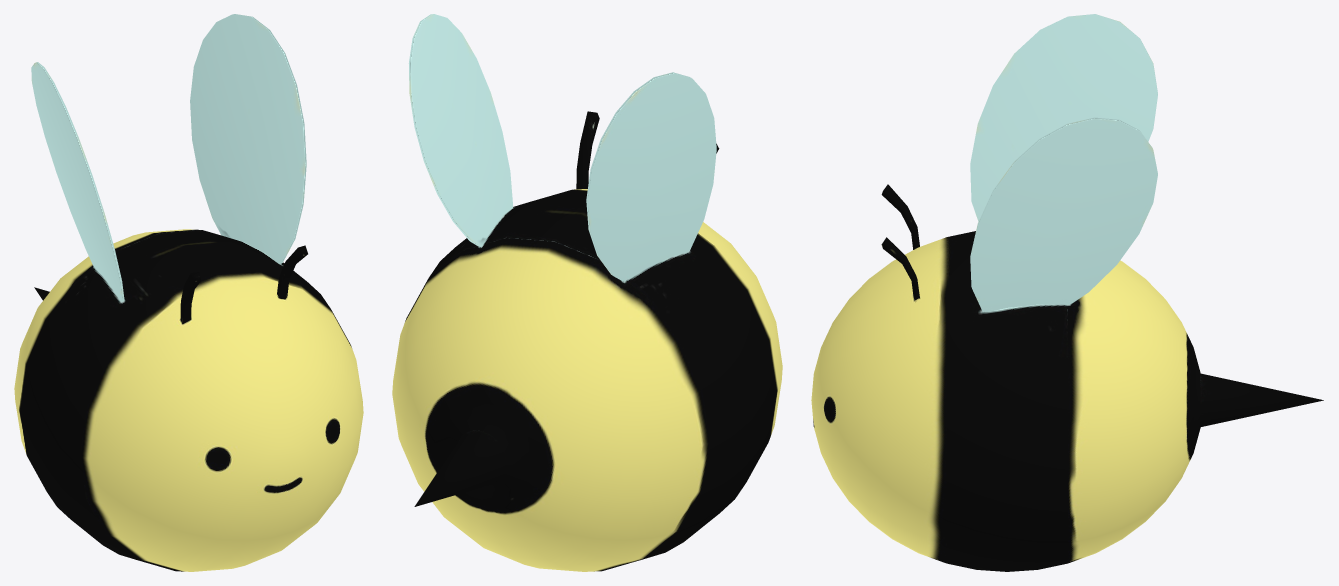
The model's file is mr._bee.glb.
3 views of the same model, side by side, from view 1: azimuth 30°, elevation 25°; view 2: azimuth 150°, elevation 25°; view 3: azimuth 270°, elevation 25° (orthographic). The views are drawn at different scales.
Parts seen in each view (by area): view 1: pSphere1, pCylinder2, pCylinder1, polySurface2, polySurface1; view 2: pSphere1, pCylinder1, pCylinder2, polySurface2; view 3: pSphere1, pCylinder2, pCylinder1, polySurface1.
Part boxes in pixels (bbox=[...]): pSphere1: bbox=[14, 229, 363, 571]; pCylinder2: bbox=[190, 14, 306, 263]; pCylinder1: bbox=[31, 62, 124, 302]; polySurface2: bbox=[277, 245, 307, 299]; polySurface1: bbox=[180, 271, 201, 324]; pSphere1: bbox=[392, 189, 782, 571]; pCylinder1: bbox=[586, 72, 716, 281]; pCylinder2: bbox=[408, 14, 513, 246]; polySurface2: bbox=[576, 111, 599, 189]; pSphere1: bbox=[811, 231, 1323, 571]; pCylinder2: bbox=[970, 117, 1157, 312]; pCylinder1: bbox=[970, 14, 1157, 221]; polySurface1: bbox=[881, 184, 919, 249].
Size of the model in its own units: 1.28 by 2 by 1.89.
1 material, 1 textured.
